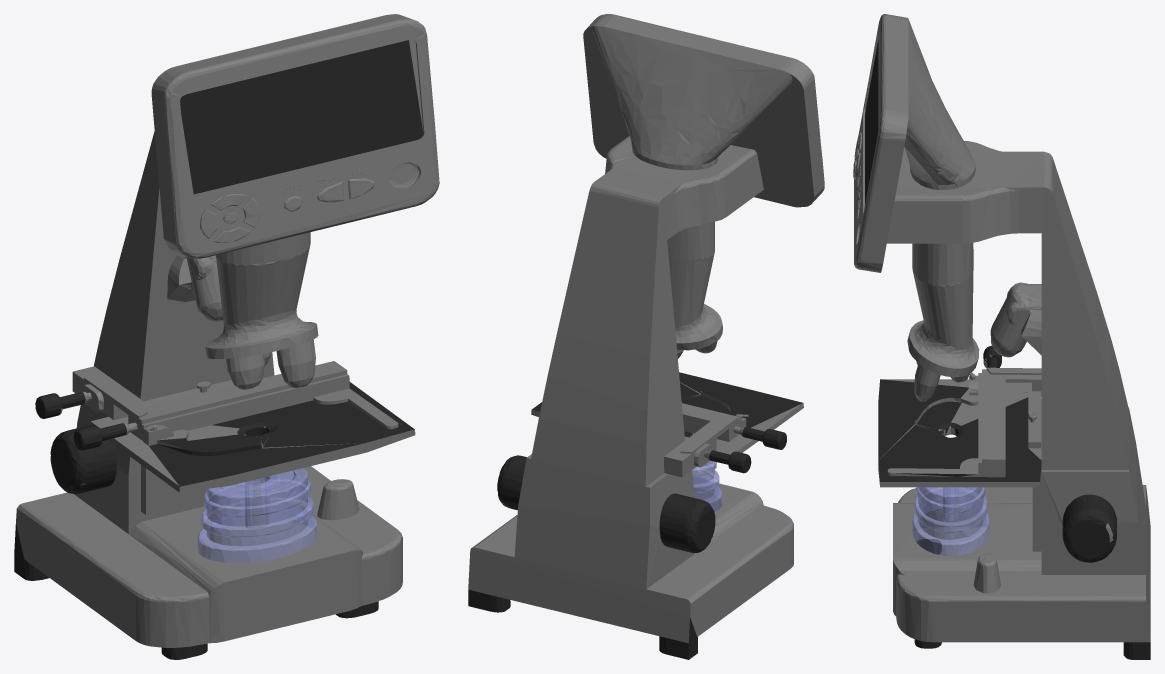
Rendered from microcopio.glb.
The picture shows the model from 3 angles, left to right: view 1: azimuth 30°, elevation 25°; view 2: azimuth 150°, elevation 25°; view 3: azimuth 270°, elevation 25°; orthographic projection. The views are drawn at different scales.
Parts seen in each view (by area): view 1: microcopio; view 2: microcopio; view 3: microcopio.
Part boxes in pixels (left/top/right/bottom): microcopio: left=14, top=14, right=439, bottom=659; microcopio: left=468, top=14, right=824, bottom=659; microcopio: left=853, top=14, right=1150, bottom=659.
Size of the model in its own units: 50 by 100 by 50.
